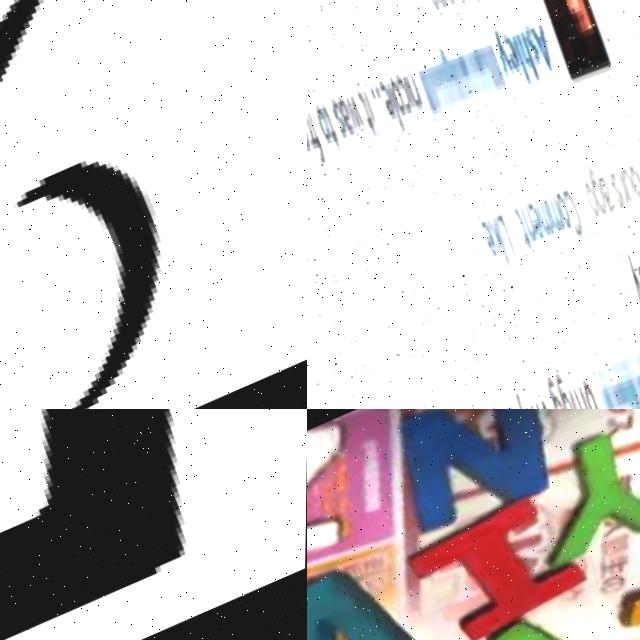2: (0, 0, 307, 409)
F: (440, 588, 632, 640)
I: (395, 479, 583, 640)
N: (378, 409, 575, 542)
R: (0, 409, 307, 640)
V: (307, 550, 420, 640)
Y: (508, 424, 640, 575)
Z: (307, 416, 381, 599)
